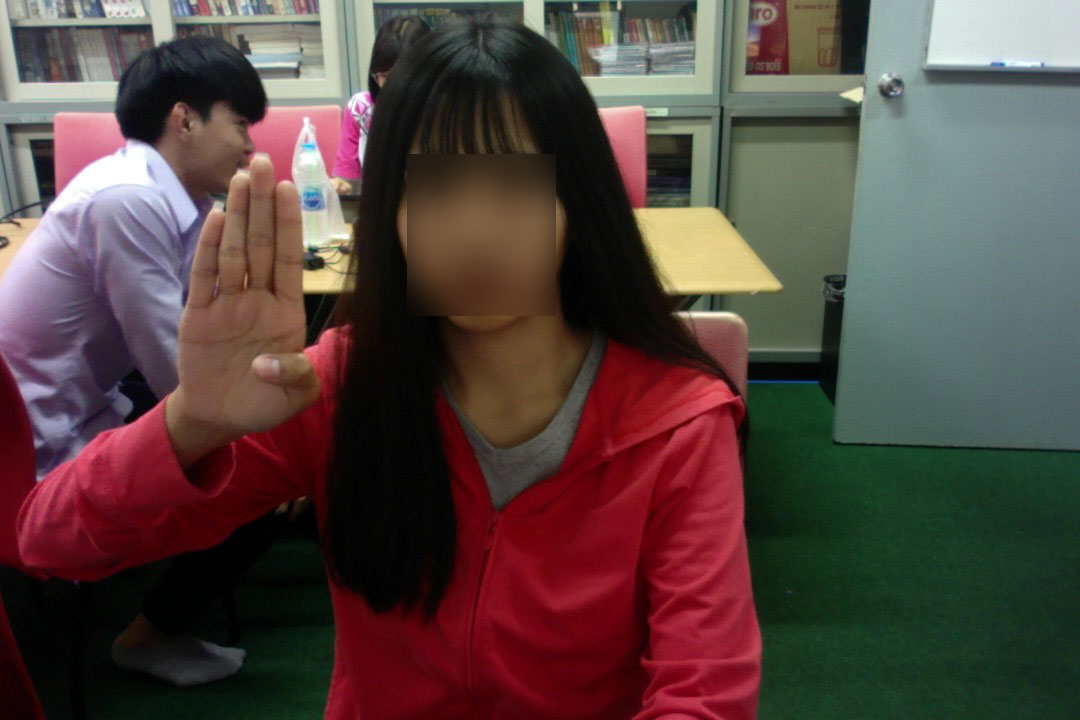bor: (168, 145, 325, 459)
